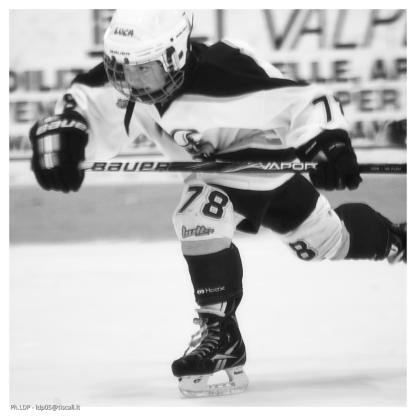Helmet: (96, 14, 192, 110)
